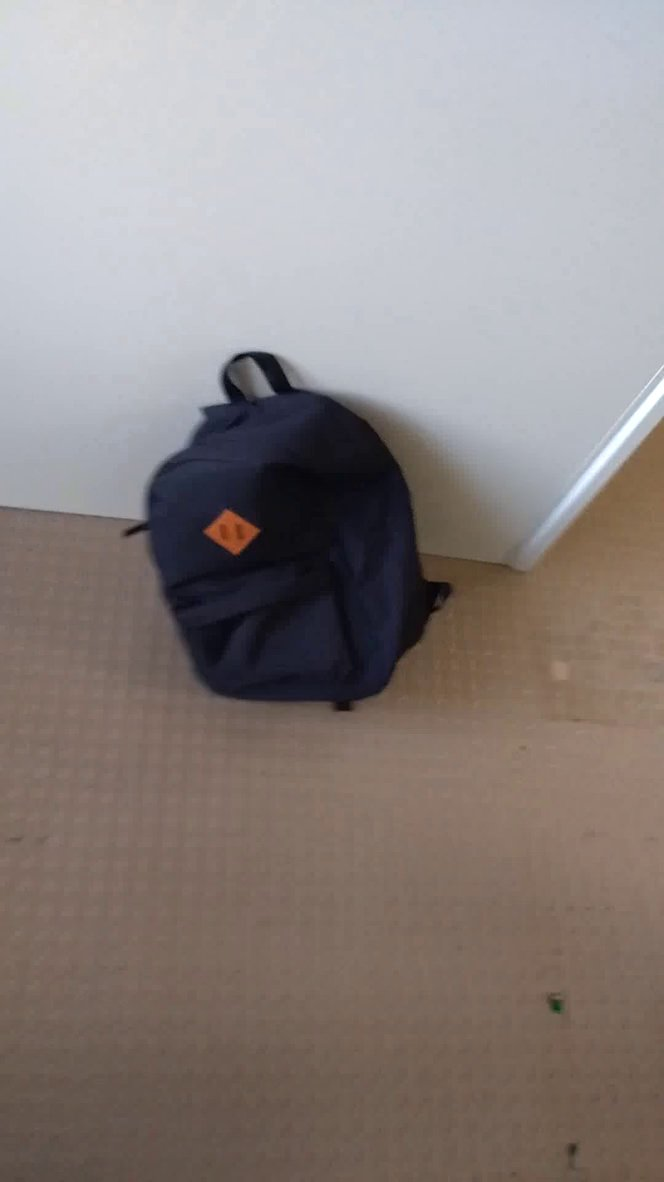bag: (108, 333, 468, 767)
